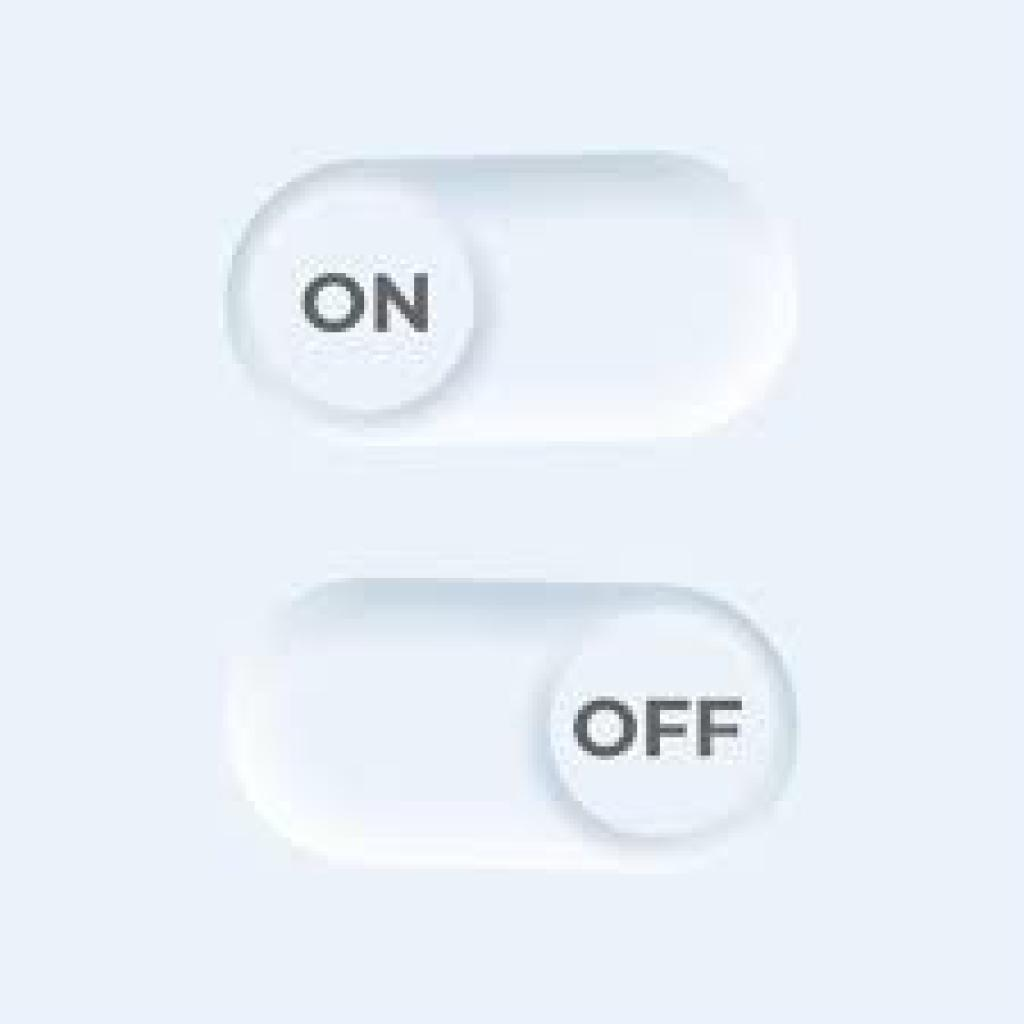switch: (224, 575, 802, 870), (221, 161, 799, 445)
